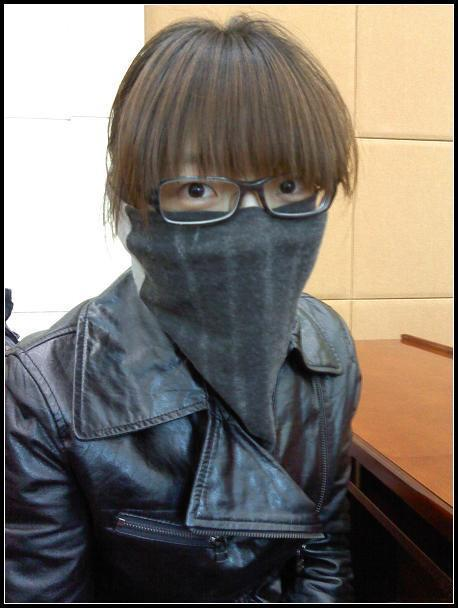OK: (143, 152, 326, 332)
